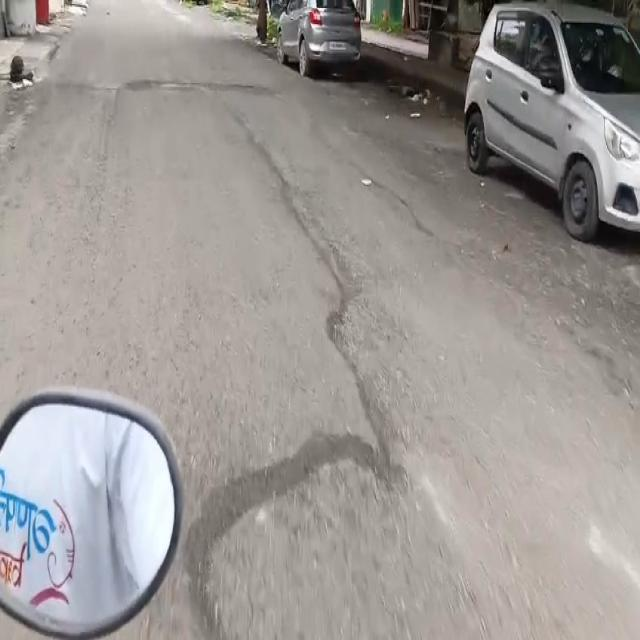road-pothole: (185, 429, 483, 639), (320, 266, 421, 439), (127, 74, 279, 98)
